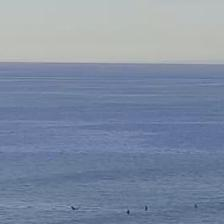surfer: (70, 205, 78, 210), (125, 210, 131, 214), (144, 206, 148, 211), (194, 204, 198, 208)
